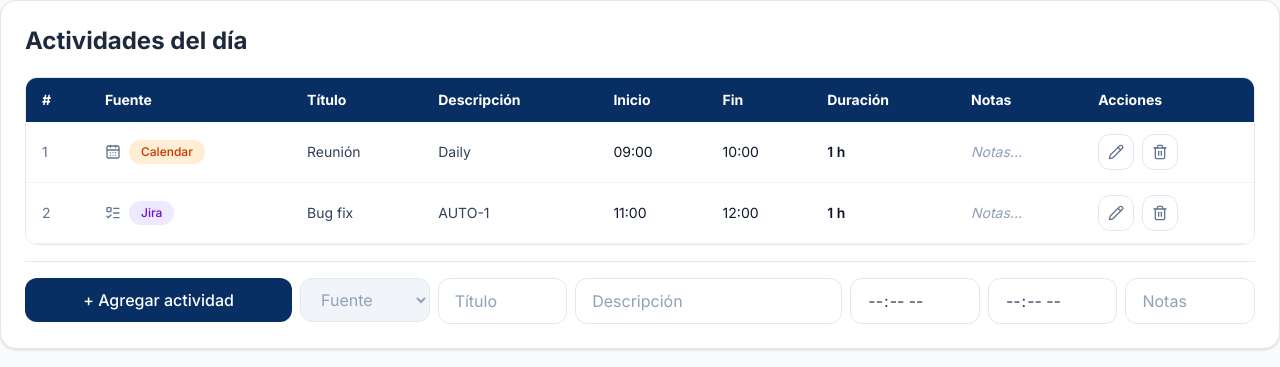
Test: ActivitiesTable › cancel-add resets form state
Click the button "+ Agregar actividad". click: click(159, 300)
box: [25,278,292,322]
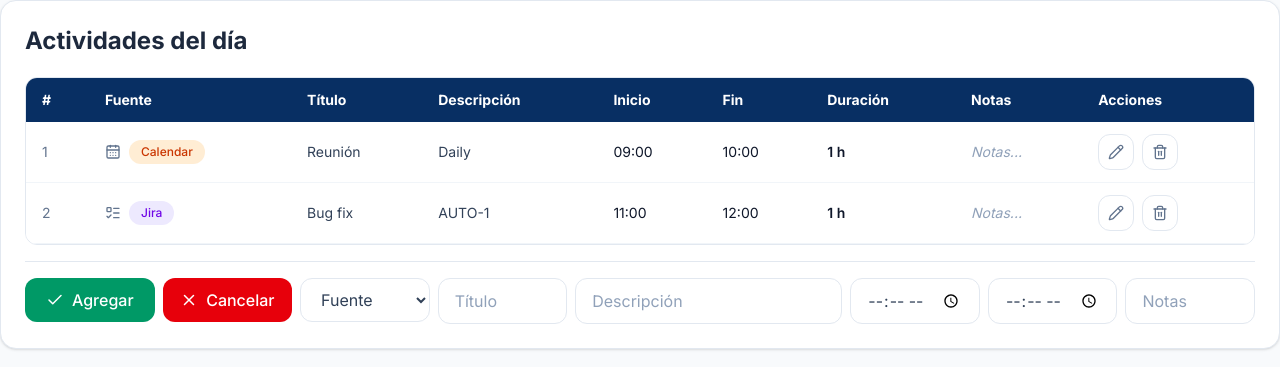
Type "tmp" into the field with placeholder "Título". click: (502, 301)
box: [438,278,567,324]
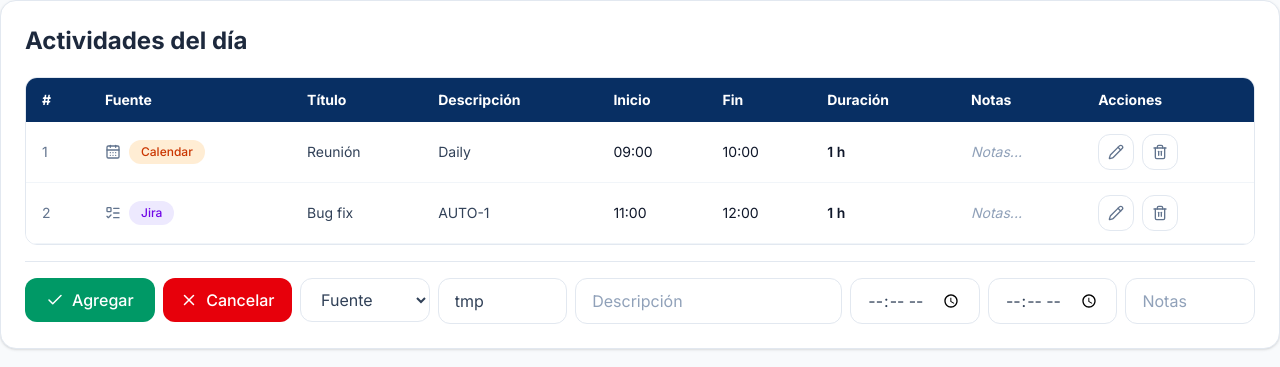
Click the button "Cancelar". click: click(227, 300)
box: [163,278,292,322]
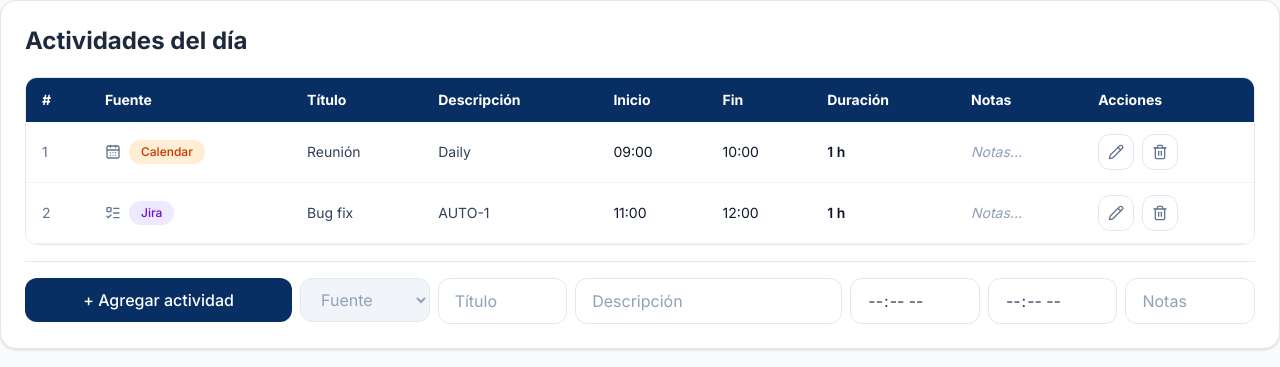
Result: the button "+ Agregar actividad" is shown at [25,278,292,322]
